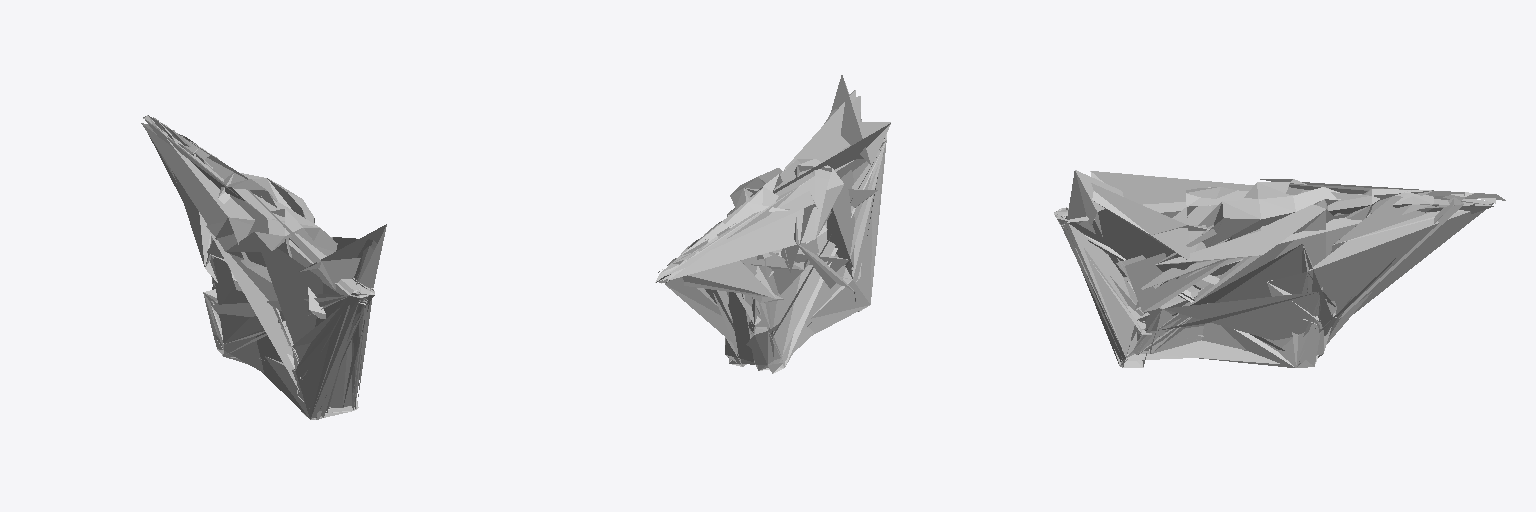
3 views of the same model, side by side, from view 1: azimuth 30°, elevation 25°; view 2: azimuth 150°, elevation 25°; view 3: azimuth 270°, elevation 25° (orthographic).
Parts seen in each view (by area): view 1: Model001_7_Nonecat01body.tga, Model001_7_Nonecat01head.tga, Model001_7_Nonecat01eye.tga; view 2: Model001_7_Nonecat01body.tga, Model001_7_Nonecat01head.tga, Model001_7_Nonecat01eye.tga; view 3: Model001_7_Nonecat01body.tga, Model001_7_Nonecat01head.tga, Model001_7_Nonecat01eye.tga.
Part boxes in pixels (left/top/right/bottom): Model001_7_Nonecat01body.tga: left=141, top=115, right=386, bottom=419; Model001_7_Nonecat01head.tga: left=169, top=128, right=373, bottom=419; Model001_7_Nonecat01eye.tga: left=203, top=289, right=374, bottom=418; Model001_7_Nonecat01body.tga: left=655, top=75, right=890, bottom=373; Model001_7_Nonecat01head.tga: left=682, top=139, right=886, bottom=368; Model001_7_Nonecat01eye.tga: left=726, top=138, right=884, bottom=370; Model001_7_Nonecat01body.tga: left=1055, top=170, right=1505, bottom=367; Model001_7_Nonecat01head.tga: left=1054, top=187, right=1450, bottom=367; Model001_7_Nonecat01eye.tga: left=1055, top=207, right=1332, bottom=367.
Size of the model in its own units: 0.1854 by 0.4541 by 0.9279.